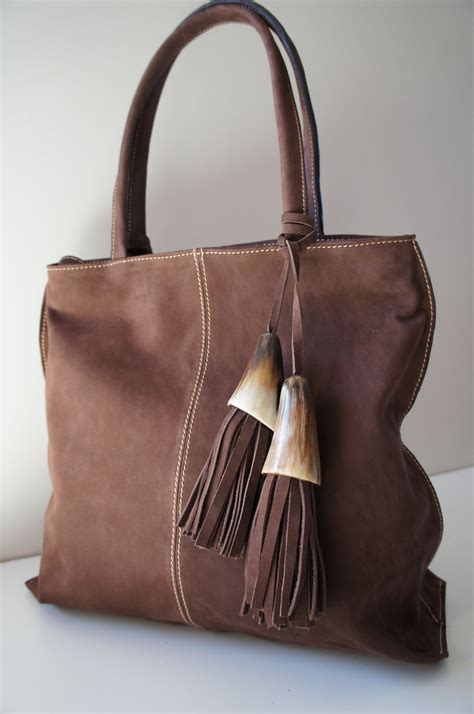gamuza: (39, 239, 448, 662)
